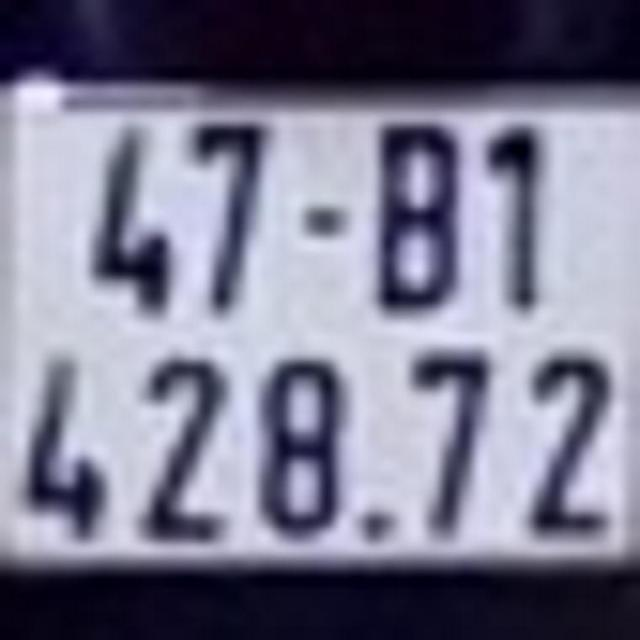1: (484, 116, 542, 310)
2: (521, 342, 618, 538), (128, 350, 220, 540)
4: (90, 118, 174, 316), (24, 348, 106, 538)
7: (396, 342, 490, 540), (190, 116, 260, 311)
8: (255, 346, 340, 536)
B: (376, 115, 464, 304)
